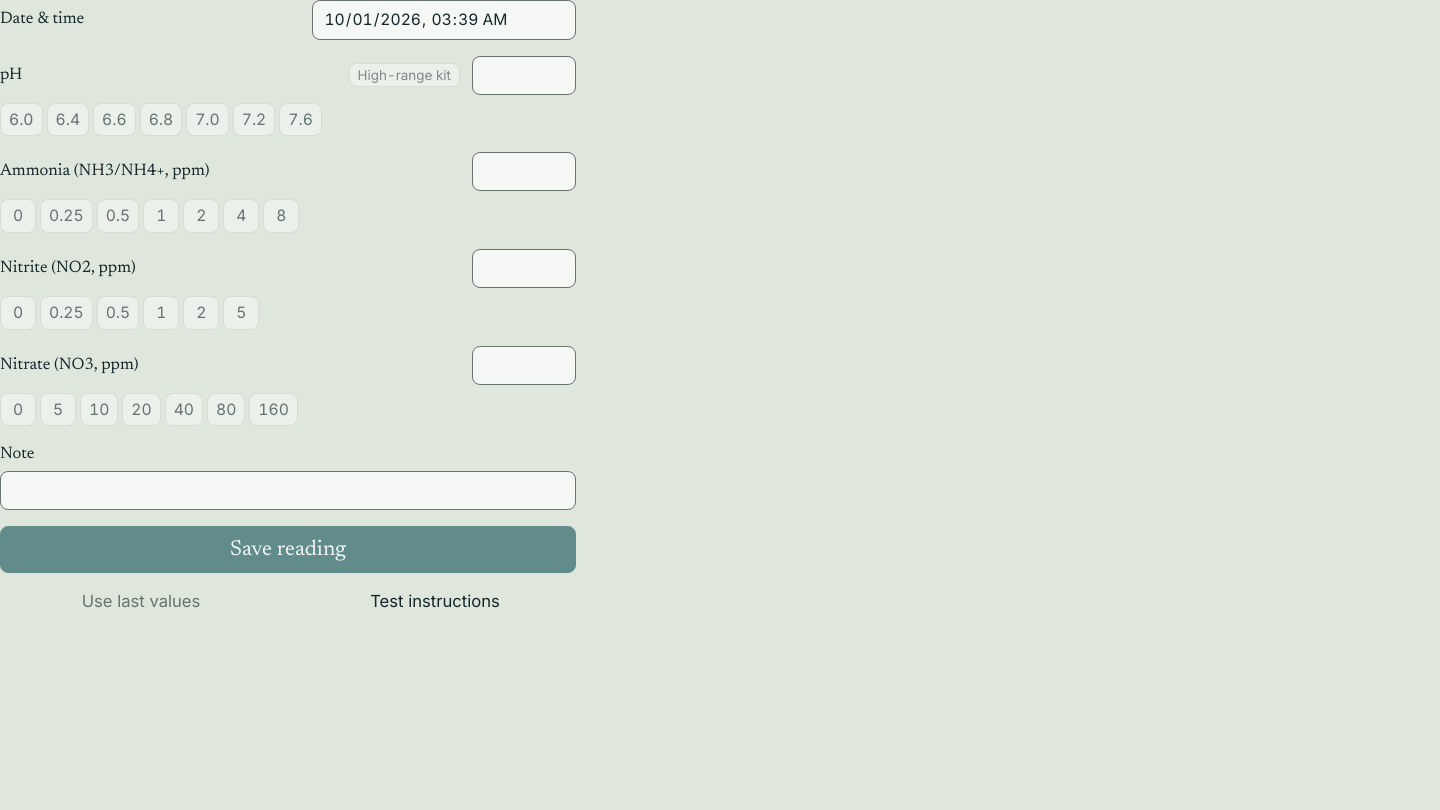
Scenario: QuickEntry › starts a 30-second timer and ticks down outside modal
Click the button "Test instructions" at (435, 601), box [294,581,576,621]
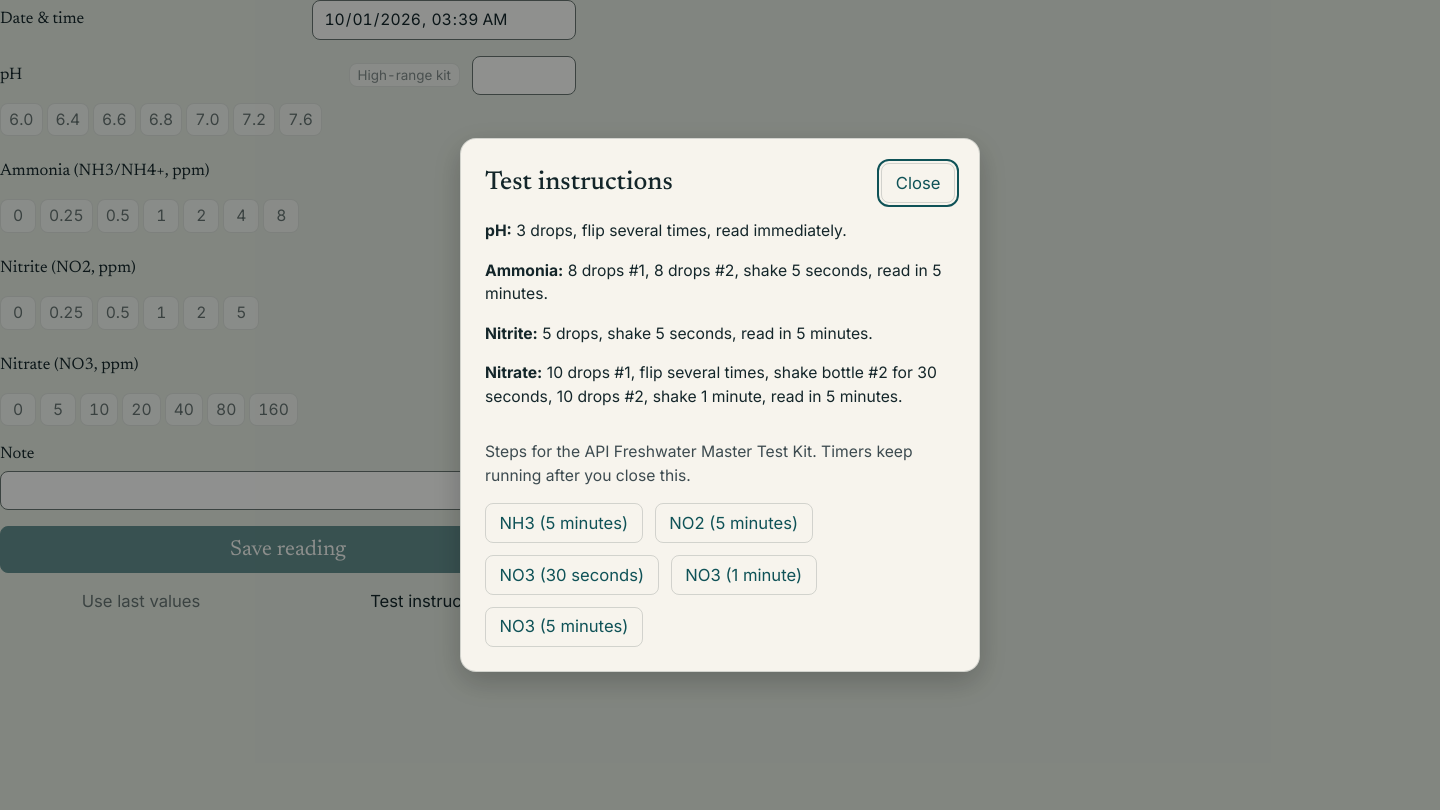
Click the button "NO3 (30 seconds)" at (572, 575), box [485,555,659,595]
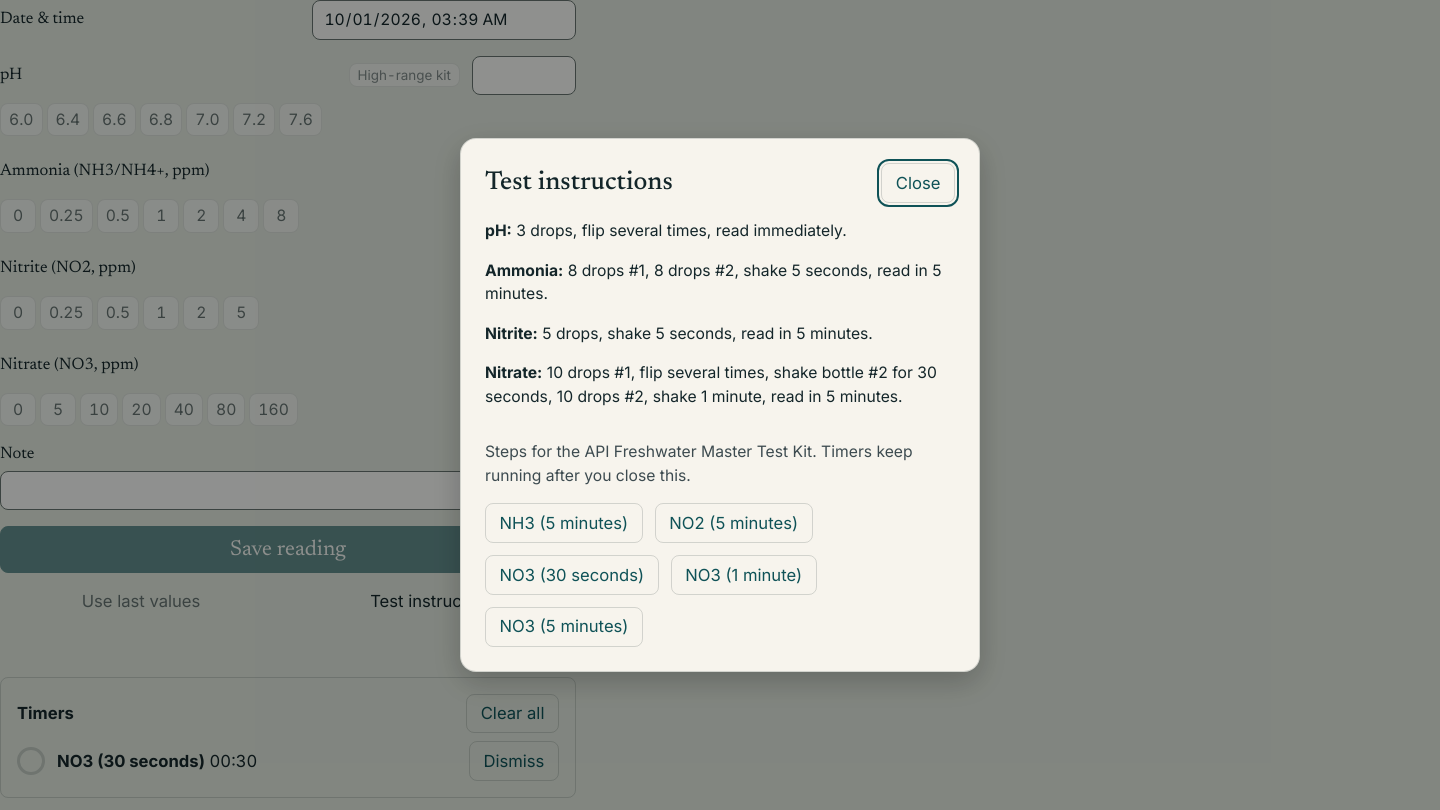
// Close modal
Click the button "Close" at (918, 183), box [881,163,955,203]
Wait 1000 ms
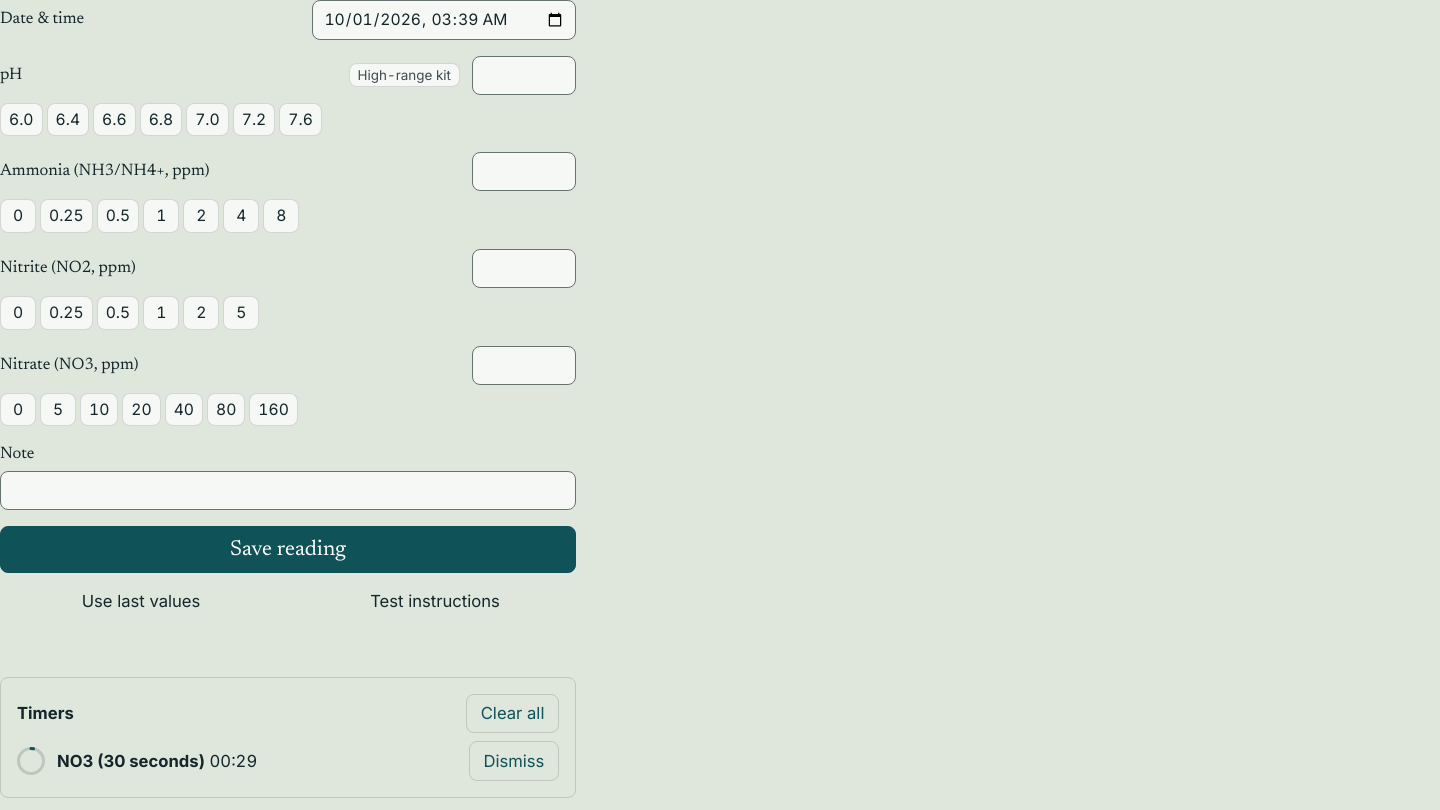
Result: the text "Timers" is shown at [17,701,74,726]
Result: the text "NO3 (30 seconds)" is shown at [57,751,205,771]
Result: the dialog is gone
